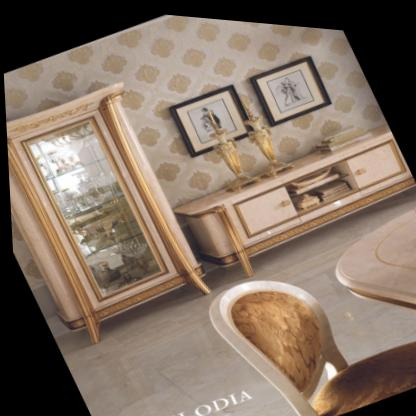Cupboard: (3, 67, 225, 365)
